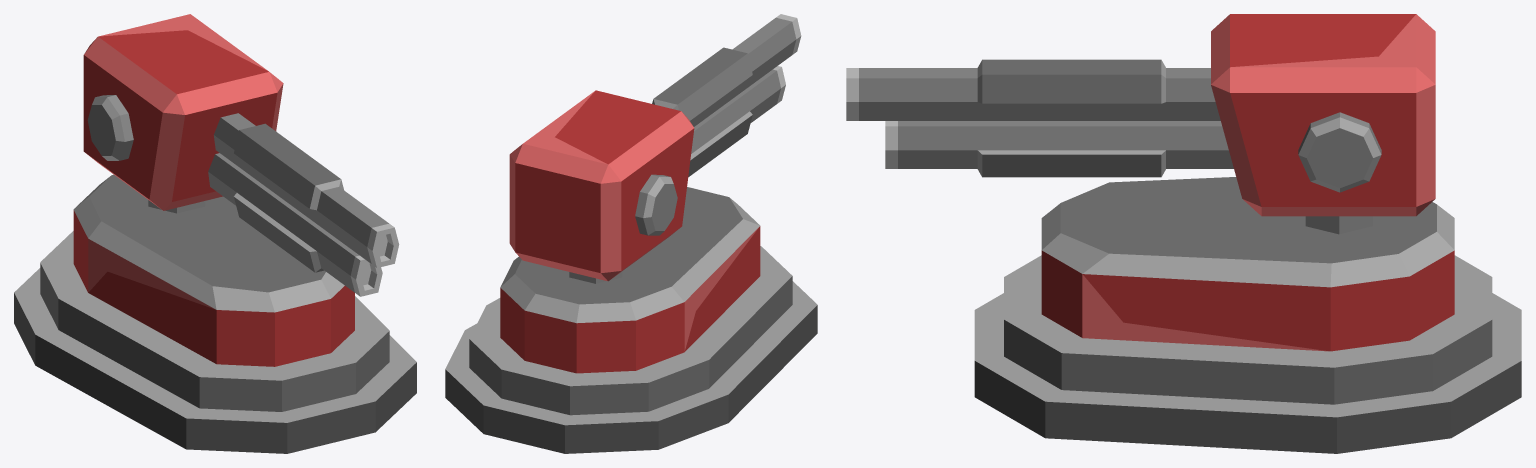
Rendered from tower_lethal_red_1.fbx.
3 renders of one model, left to right at view 1: azimuth 30°, elevation 25°; view 2: azimuth 150°, elevation 25°; view 3: azimuth 270°, elevation 25°, orthographic. The views are drawn at different scales.
Visible parts, largest first — view 1: tower_lethal_red_1, top_lethal_red_1; view 2: tower_lethal_red_1, top_lethal_red_1; view 3: tower_lethal_red_1, top_lethal_red_1.
Boxes of the visible parts, <box> form: tower_lethal_red_1: <box>14,174,416,453</box>; top_lethal_red_1: <box>83,14,399,296</box>; tower_lethal_red_1: <box>445,187,817,453</box>; top_lethal_red_1: <box>509,14,801,283</box>; tower_lethal_red_1: <box>974,177,1521,453</box>; top_lethal_red_1: <box>846,14,1435,234</box>.
Size of the model in its own units: 124 by 117 by 216.
